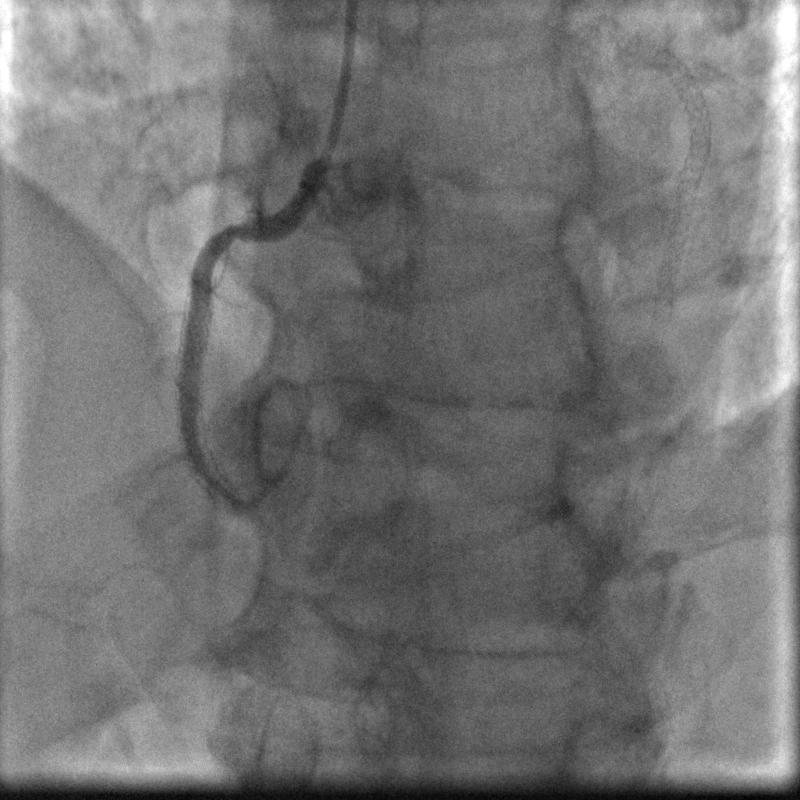Stenosis: (214, 209, 254, 254)
